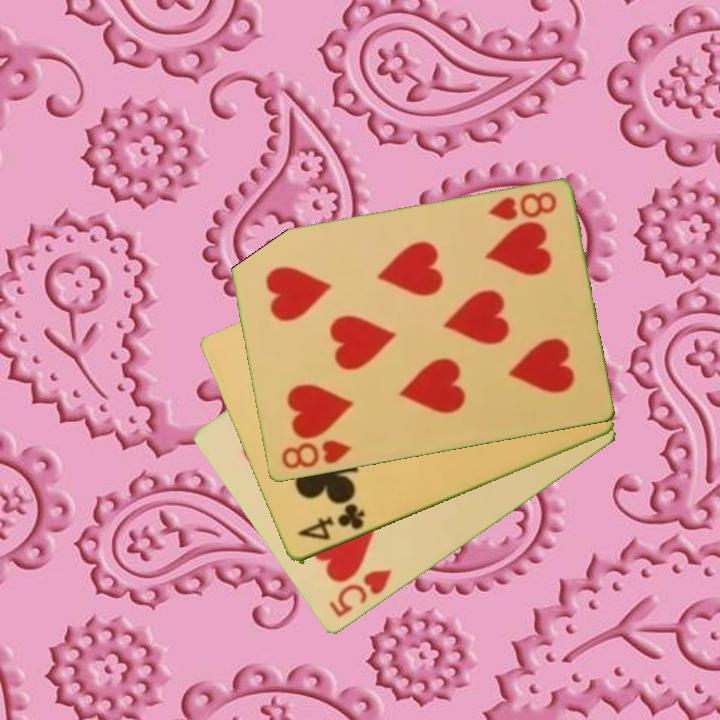4c: (294, 501, 368, 544)
5h: (325, 566, 395, 621)
8h: (277, 436, 355, 473), (484, 188, 560, 224)
